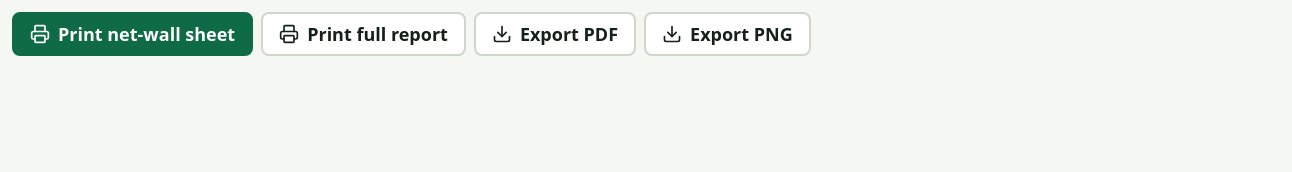
Test: ExportButtons › shows an honest error when the export request fails, and clears it on success
The image size is (1292, 172).
Click the button "Export PDF" at (555, 34), box [474,12,636,56]
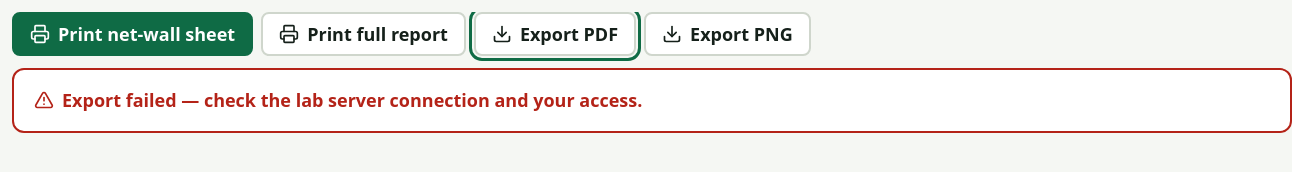
Expected: the message shows "Export failed", [62,88,642,112]
Click the button "Export PDF" at (555, 34), box [474,12,636,56]
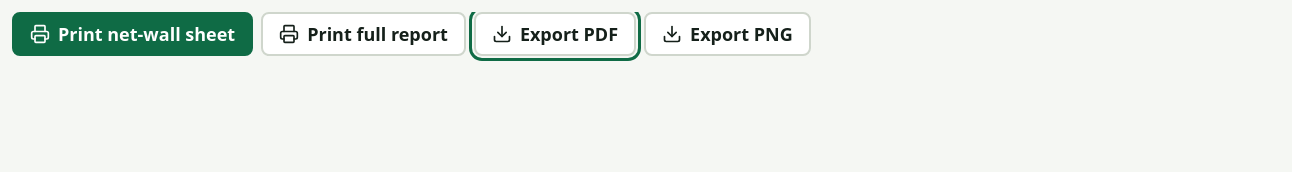
Expected: the message "Export failed — check the lab server connection and your access." is gone
